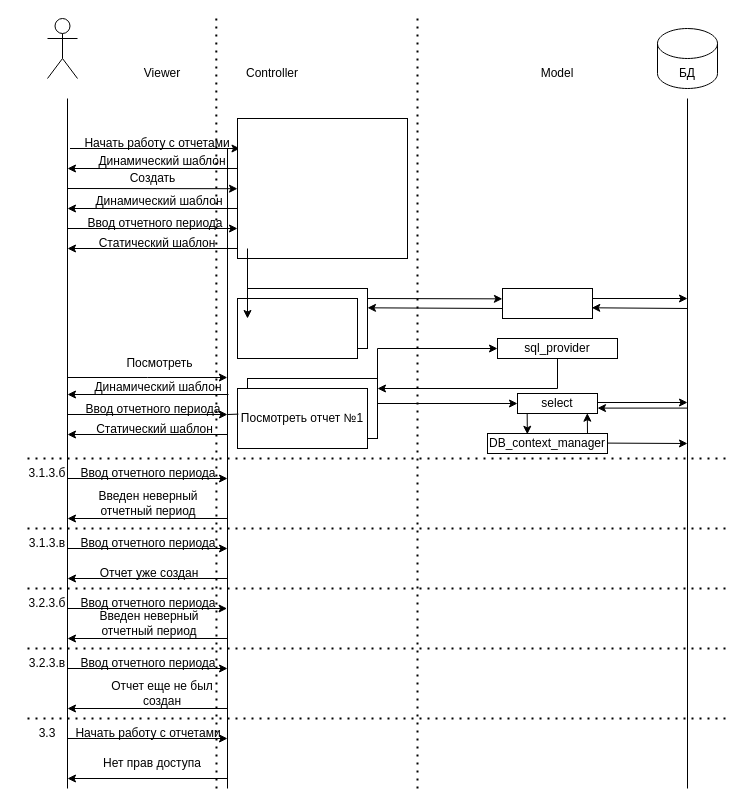
Image size: 746x807. Some labels were removed from this diagram. Here are the shapes that lost their labels. From the top down, the centre of each, then its label:
the point at 547,303: create_report
the point at 297,328: Создать отчет №1
